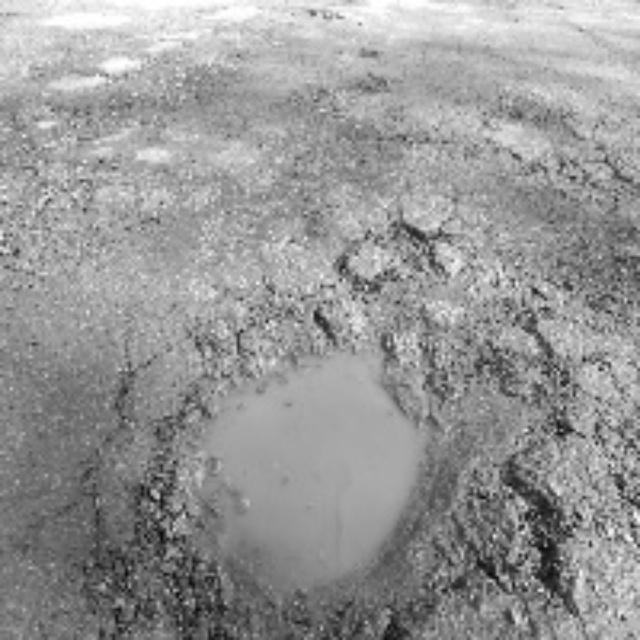Crack: (12, 33, 640, 288)
Pothole: (158, 336, 504, 631), (343, 222, 445, 286)
